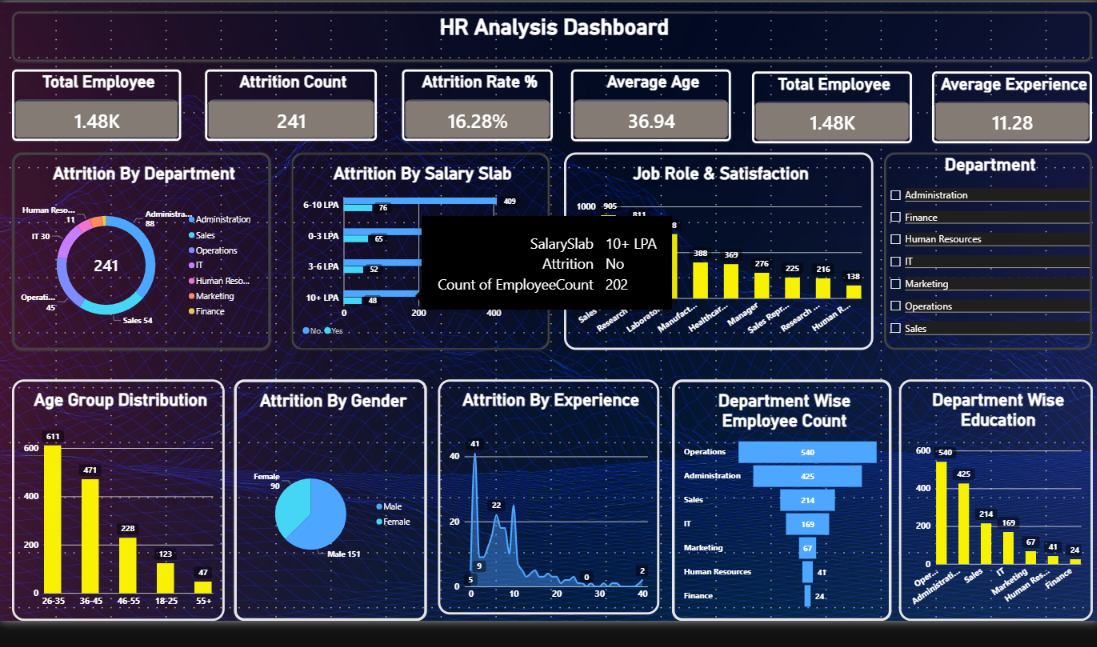

The page's visual inventory and layout, read from the dashboard file:
{"tool":"powerbi","page":{"name":"Page 1","canvas":[1920,1080],"ordinal":0},"visuals":[{"type":"cardVisual","title":"Total Employee","fields":{"Data":["CountNonNull(Sheet1.EmpID)"]},"box":[21.7,116.7,295,125],"z":0},{"type":"textbox","title":"HR Analysis Dashboard","box":[21.7,15,1885,88.3],"z":1000},{"type":"cardVisual","title":"Attrition Count","fields":{"Data":["Sum(Sheet1.Attrition Count)"]},"box":[358.3,116.7,300,125],"z":2000},{"type":"cardVisual","title":"Attrition Rate %","fields":{"Data":["Sheet1.Attrition Rate %"]},"box":[701.7,116.7,263.3,125],"z":3000},{"type":"cardVisual","title":"Average Age","fields":{"Data":["Avg(Sheet1.Age)"]},"box":[996.7,116.7,279.1,125.6],"z":4000},{"type":"cardVisual","title":"Total Employee","fields":{"Data":["CountNonNull(Sheet1.EmpID)"]},"box":[1313.3,120,279.1,125.6],"z":5000},{"type":"cardVisual","title":"Average Experience","fields":{"Data":["Avg(Sheet1.TotalExperience(Years))"]},"box":[1626.7,120,279.1,125.6],"z":6000},{"type":"donutChart","title":"Attrition By Department ","fields":{"Category":["Sheet1.Department"],"Y":["Sum(Sheet1.Attrition Count)"]},"box":[21.4,261.4,451.7,345.3],"z":7000},{"type":"clusteredBarChart","title":"Attrition By Salary Slab ","fields":{"Category":["Sheet1.SalarySlab"],"Series":["Sheet1.Attrition"],"Y":["CountNonNull(Sheet1.EmployeeCount)"]},"box":[507.6,261.6,451.7,345.3],"z":8000},{"type":"columnChart","title":"Age Group Distribution","fields":{"Category":["Sheet1.AgeGroup"],"Y":["Sum(Sheet1.EmployeeCount)"]},"box":[21.4,658.6,371.4,421.4],"z":9000},{"type":"pieChart","title":"Attrition By Gender","fields":{"Category":["Sheet1.Gender"],"Y":["Sum(Sheet1.Attrition Count)"]},"box":[408.6,658.6,337.1,421.4],"z":10000},{"type":"areaChart","title":"Attrition By Experience","fields":{"Category":["Sheet1.TotalExperience(Years)"],"Y":["Sum(Sheet1.Attrition Count)"]},"box":[765,658.3,386.7,410],"z":11000},{"type":"funnel","title":"Department Wise Employee Count","fields":{"Category":["Sheet1.Department"],"Y":["CountNonNull(Sheet1.EmpID)"]},"box":[1173.3,658.3,383.3,421.7],"z":12000},{"type":"slicer","title":"Department","fields":{"Values":["Sheet1.Department"]},"box":[1543.3,261.7,363.3,345],"z":13000},{"type":"columnChart","title":"Job Role  & Satisfaction","fields":{"Category":["Sheet1.JobRole"],"Y":["Sum(Sheet1.JobSatisfaction)"]},"box":[985,261.7,540,345],"z":14000},{"type":"lineStackedColumnComboChart","title":"Department Wise Education","fields":{"Category":["Sheet1.Department"],"Y":["CountNonNull(Sheet1.Education)"]},"box":[1568.3,658.3,338.3,421.7],"z":15000}]}

Visuals, with their boxes in screenshot pixels (x1, y1, x2, y2):
"Total Employee" cardVisual: (x1=24, y1=71, x2=190, y2=142)
"HR Analysis Dashboard" textbox: (x1=24, y1=14, x2=1086, y2=64)
"Attrition Count" cardVisual: (x1=213, y1=71, x2=382, y2=142)
"Attrition Rate %" cardVisual: (x1=407, y1=71, x2=555, y2=142)
"Average Age" cardVisual: (x1=573, y1=71, x2=730, y2=142)
"Total Employee" cardVisual: (x1=751, y1=73, x2=909, y2=144)
"Average Experience" cardVisual: (x1=928, y1=73, x2=1085, y2=144)
"Attrition By Department " donutChart: (x1=23, y1=153, x2=278, y2=348)
"Attrition By Salary Slab " clusteredBarChart: (x1=297, y1=153, x2=552, y2=348)
"Age Group Distribution" columnChart: (x1=23, y1=377, x2=233, y2=614)
"Attrition By Gender" pieChart: (x1=242, y1=377, x2=432, y2=614)
"Attrition By Experience" areaChart: (x1=442, y1=377, x2=660, y2=608)
"Department Wise Employee Count" funnel: (x1=673, y1=377, x2=889, y2=614)
"Department" slicer: (x1=881, y1=153, x2=1086, y2=348)
"Job Role  & Satisfaction" columnChart: (x1=566, y1=153, x2=871, y2=348)
"Department Wise Education" lineStackedColumnComboChart: (x1=895, y1=377, x2=1086, y2=614)
